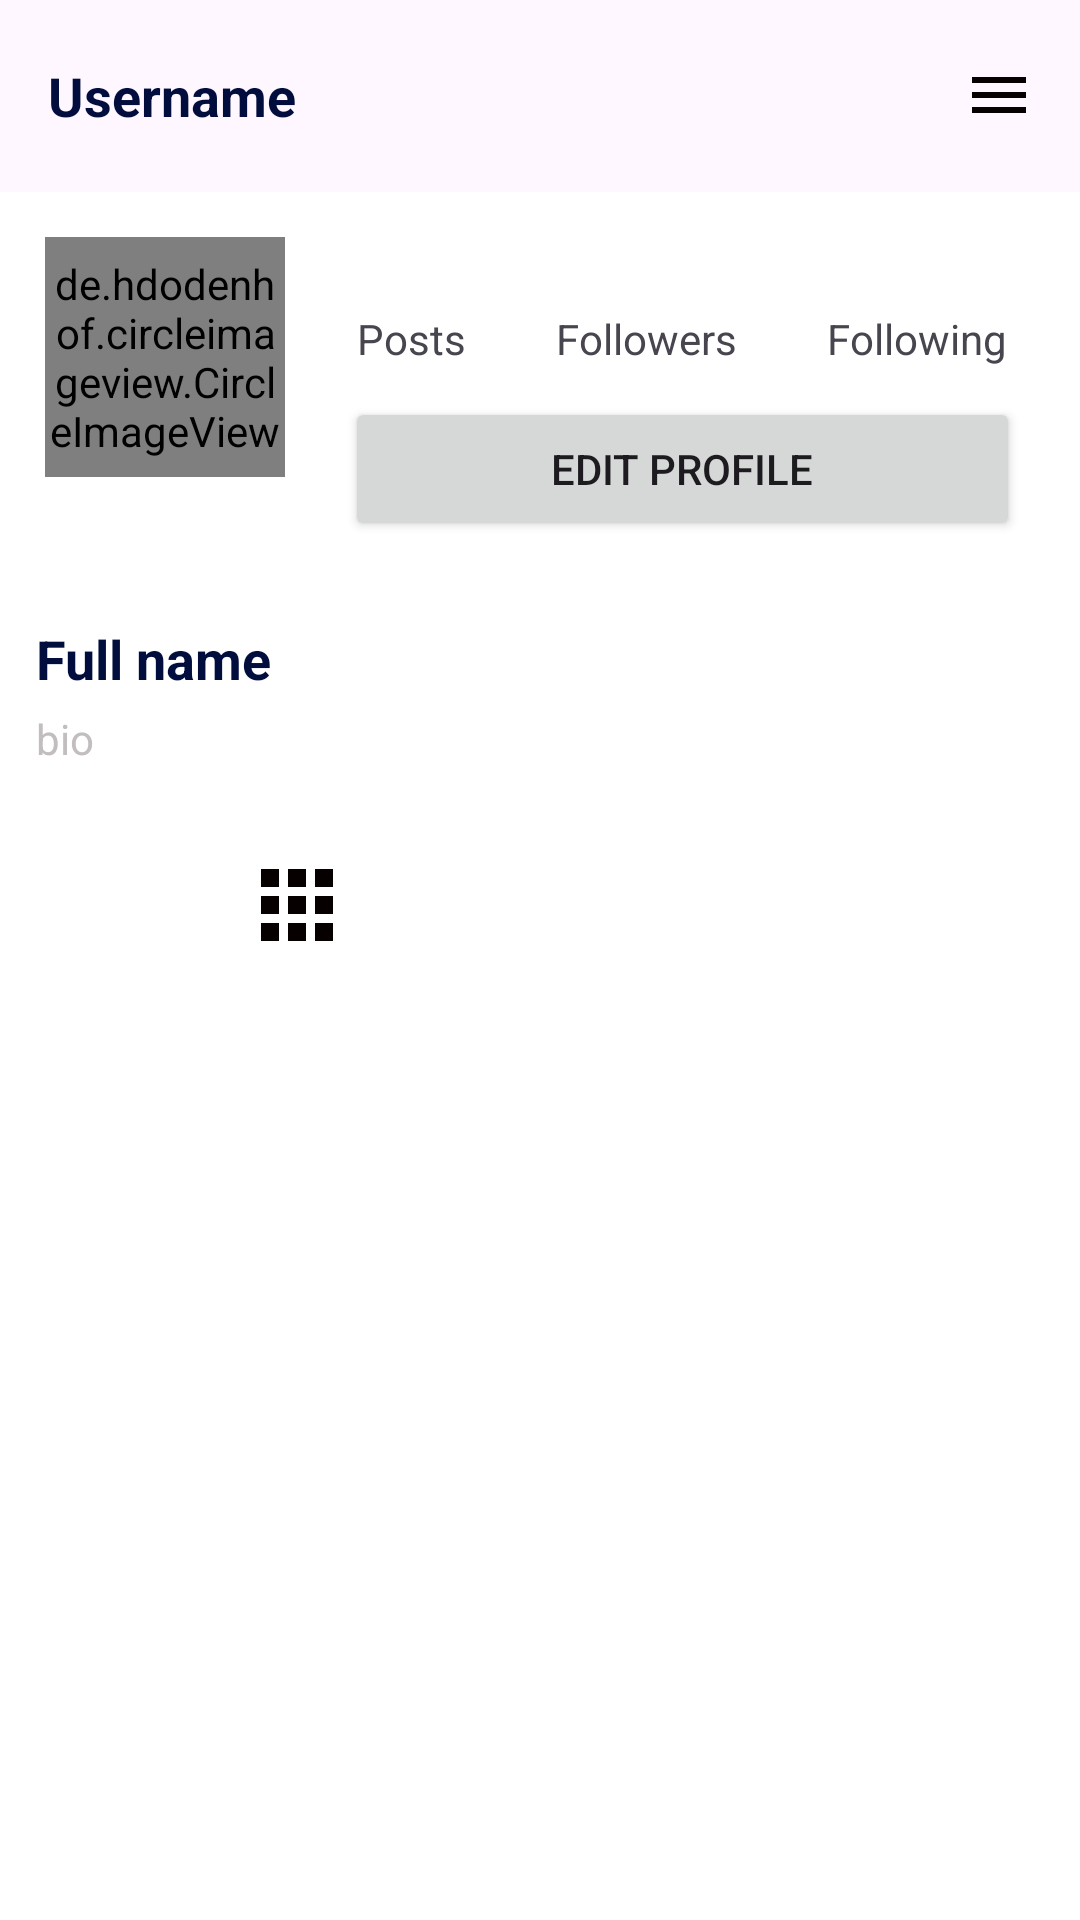

Locate icon controls on the screen. Image size 1080 × 1920, boxes as (x1, y1, x2, y2).
menu: (972, 77, 1026, 113)
pictures: (261, 869, 333, 941)
